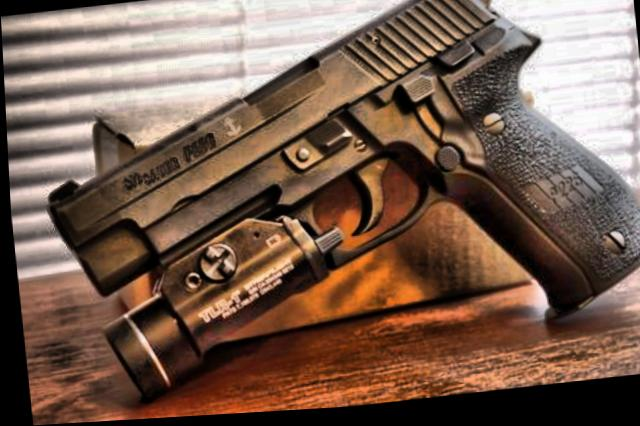pistol: (4, 0, 640, 384)
